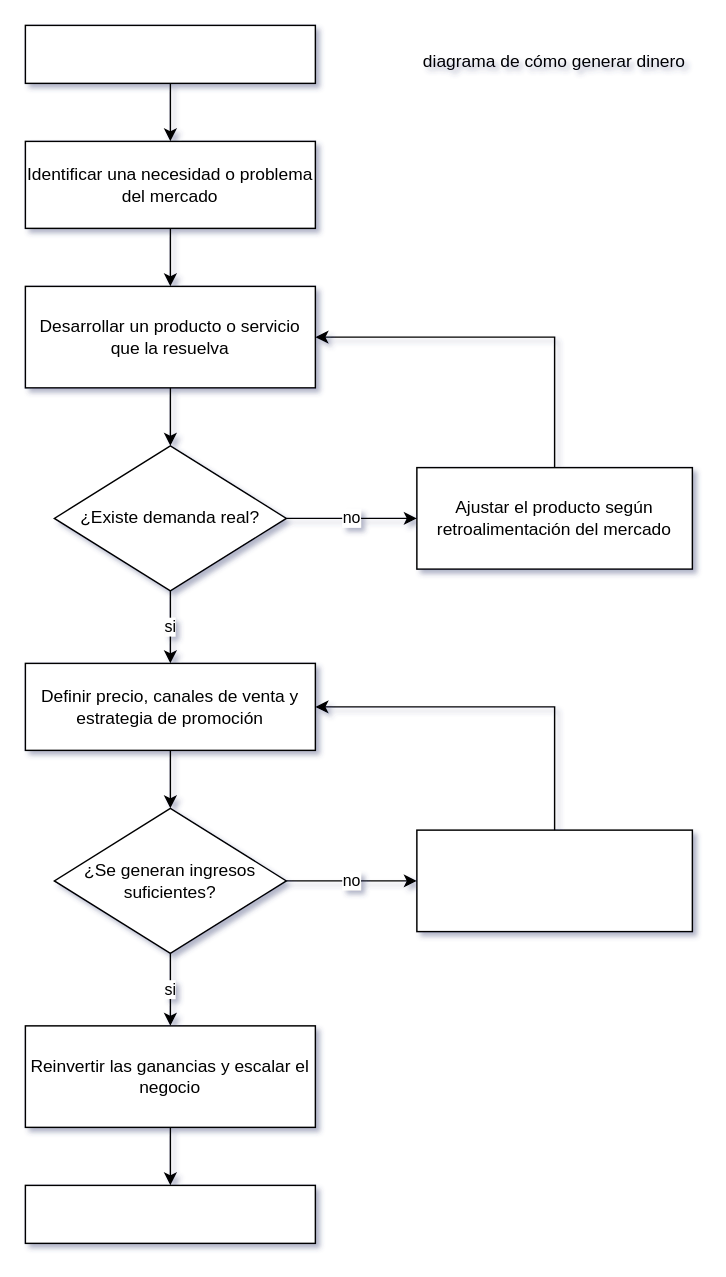
This 726x1277 diagram has some shape labels left out. Each missing label, with the centre of its shape:
FIN: [169,1213]
INICIO: [169,53]
Optimizar costos, precios o estrategia de venta: [553,880]
